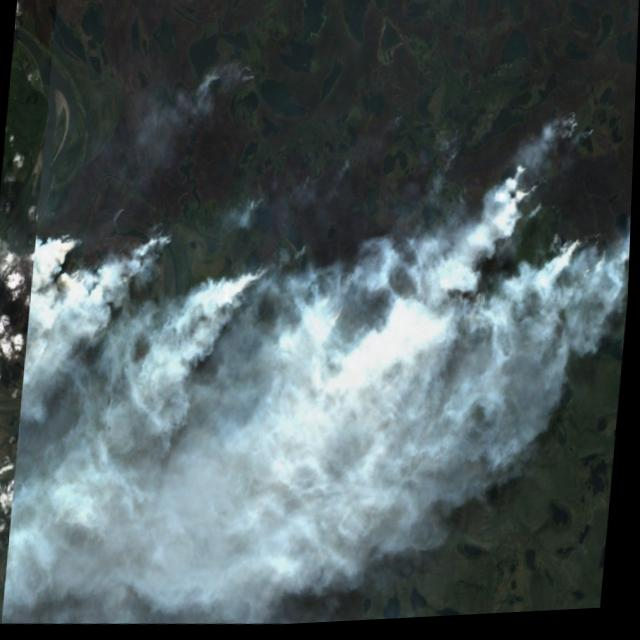fire: (0, 128, 636, 410)
